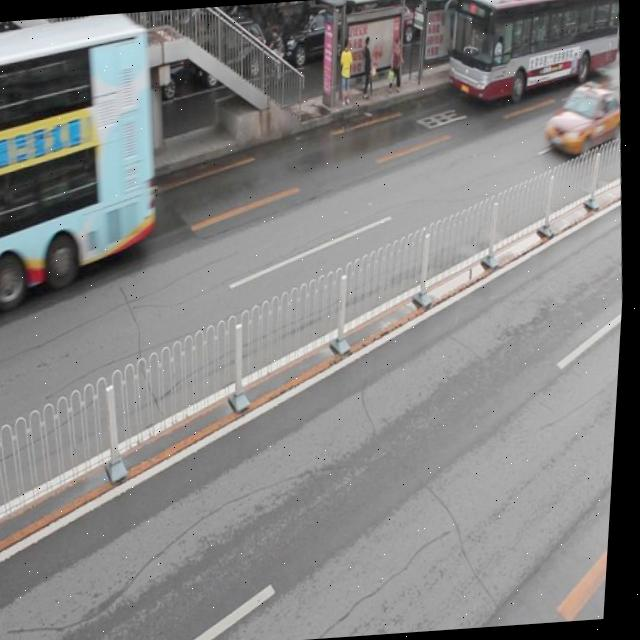car: (78, 43, 186, 110), (542, 80, 625, 158), (189, 13, 269, 86), (0, 60, 74, 138), (269, 0, 353, 67)
van: (0, 16, 170, 307), (444, 0, 624, 100)
